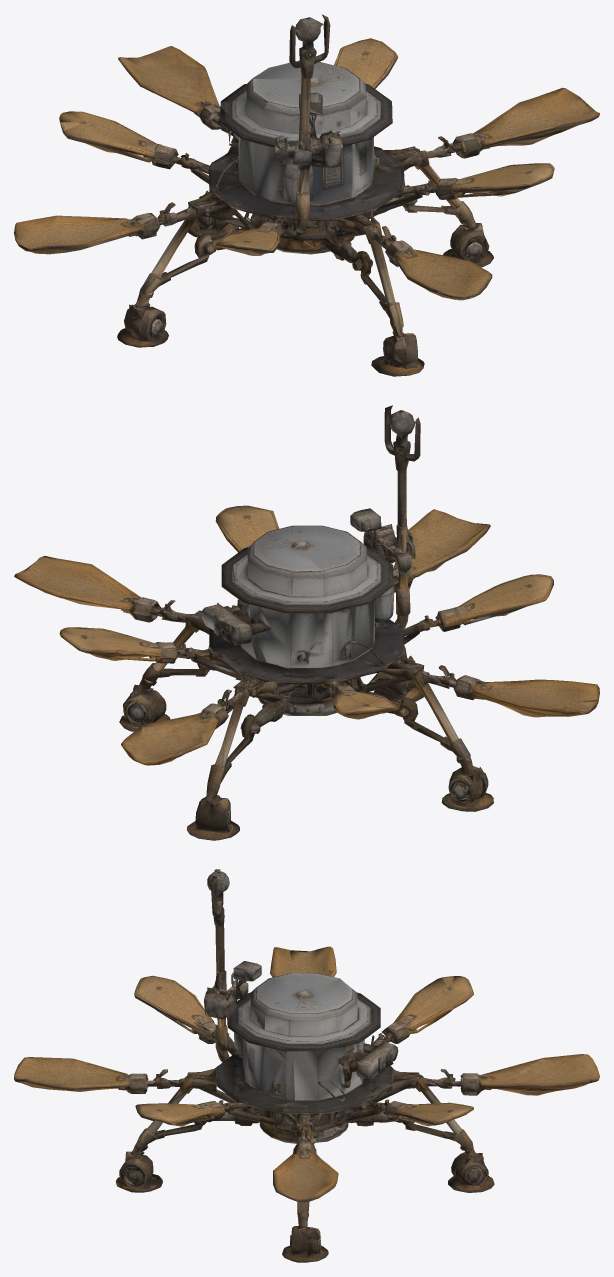
File: pathfinder.glb
3 views of the same model, one above another, from view 1: azimuth 30°, elevation 25°; view 2: azimuth 150°, elevation 25°; view 3: azimuth 270°, elevation 25° (orthographic). The views are drawn at different scales.
Parts seen in each view (by area): view 1: mesh_node; view 2: mesh_node; view 3: mesh_node.
Part boxes in pixels (left/top/right/bottom): mesh_node: left=14, top=14, right=599, bottom=376; mesh_node: left=14, top=405, right=599, bottom=840; mesh_node: left=14, top=869, right=599, bottom=1262.
Bounding box in the file's own units: 1.45 × 0.8 × 1.45.
1 material, 1 textured.
